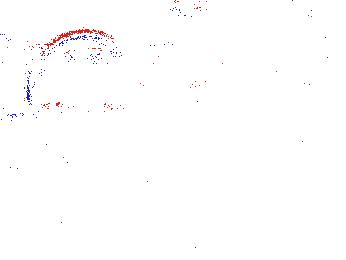moon jellyfish: (212, 1, 327, 103), (30, 29, 142, 108), (169, 1, 229, 88), (1, 34, 29, 117)
